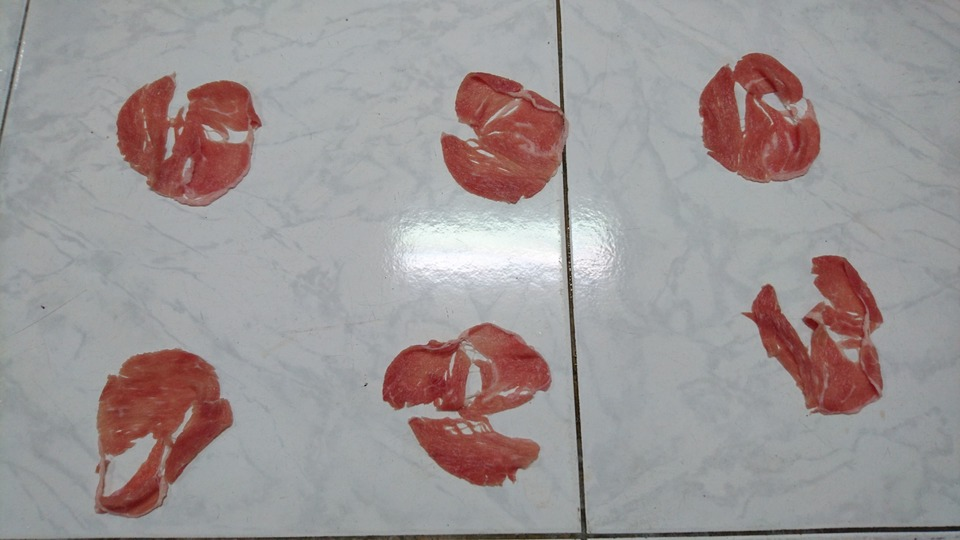restructured meat: (379, 322, 551, 492), (77, 339, 243, 514), (745, 244, 892, 440), (426, 54, 577, 208), (112, 68, 262, 207), (698, 50, 832, 185)
